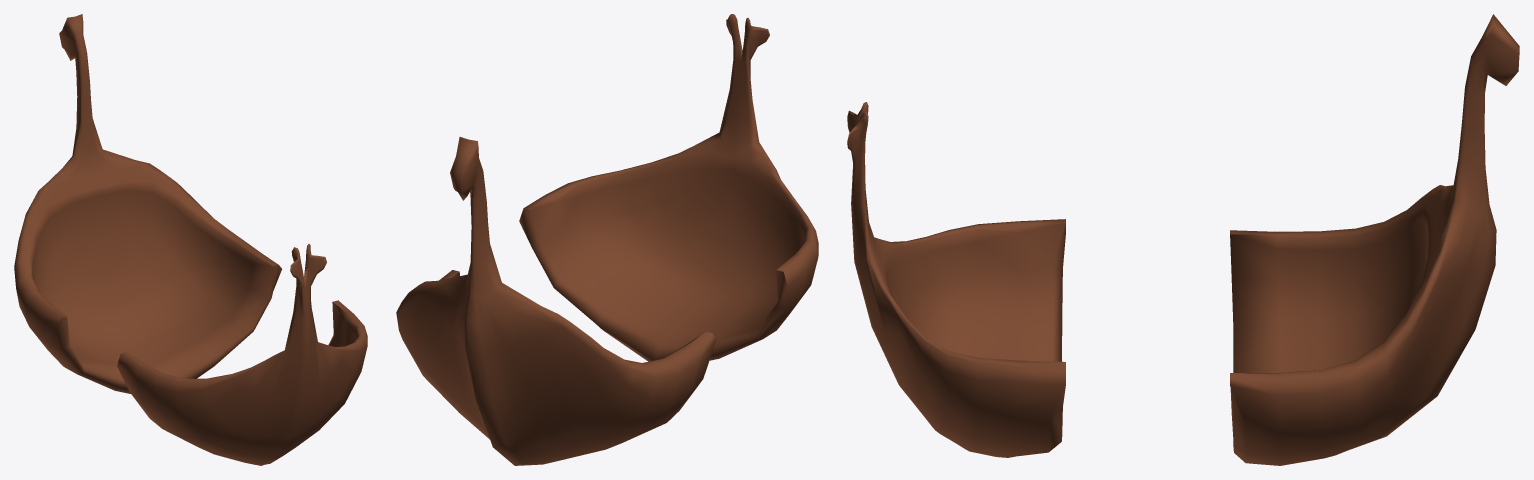
Rendered from Ship2Parts.fbx.
The picture shows the model from 3 angles, left to right: view 1: azimuth 30°, elevation 25°; view 2: azimuth 150°, elevation 25°; view 3: azimuth 270°, elevation 25°; orthographic projection. The views are drawn at different scales.
Visible parts, largest first — view 1: ShipFront, ShipBack; view 2: ShipBack, ShipFront; view 3: ShipFront, ShipBack.
Boxes of the visible parts, box(x1,y1,x2,y2) form: ShipFront: box(14, 14, 281, 393); ShipBack: box(117, 244, 367, 465); ShipBack: box(519, 14, 818, 361); ShipFront: box(396, 137, 716, 465); ShipFront: box(1230, 14, 1519, 465); ShipBack: box(847, 102, 1065, 457).
Size of the model in its own units: 2062 by 2797 by 3838.
